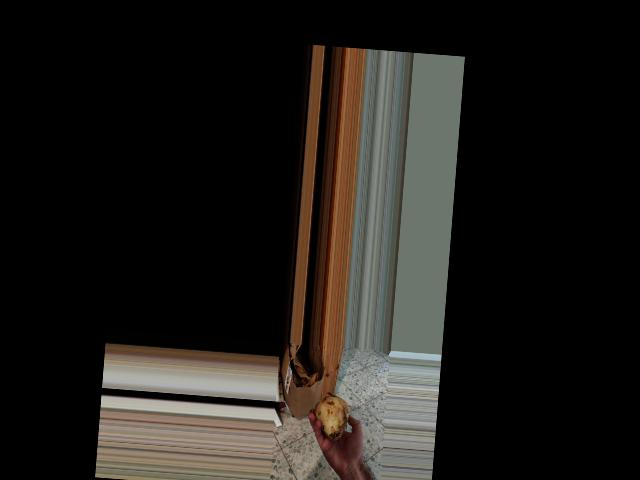onion: (310, 391, 353, 442)
